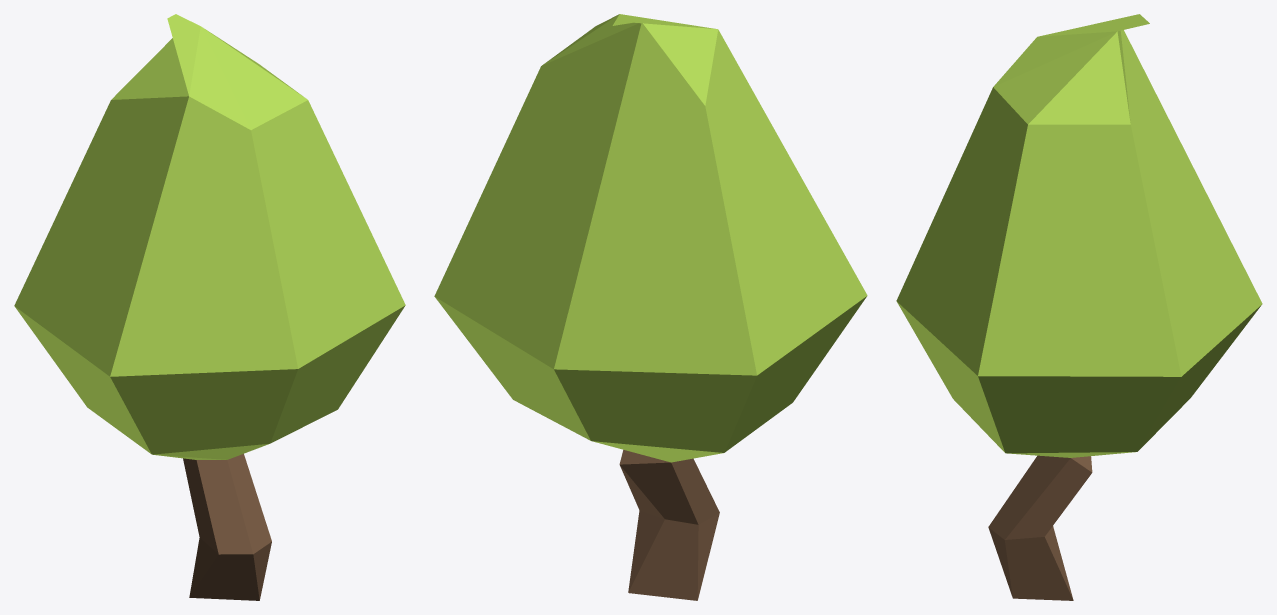
The model's file is Árvorezinha 1.fbx.
The picture shows the model from 3 angles, left to right: view 1: azimuth 30°, elevation 25°; view 2: azimuth 150°, elevation 25°; view 3: azimuth 270°, elevation 25°; orthographic projection. The views are drawn at different scales.
Visible parts, largest first — view 1: Árvorezinha 3; view 2: Árvorezinha 3; view 3: Árvorezinha 3.
Part boxes in pixels (<box>): Árvorezinha 3: <box>14,14,405,600</box>; Árvorezinha 3: <box>434,14,867,600</box>; Árvorezinha 3: <box>896,14,1262,600</box>.
Bounding box in the file's own units: 913 × 1614 × 942.
